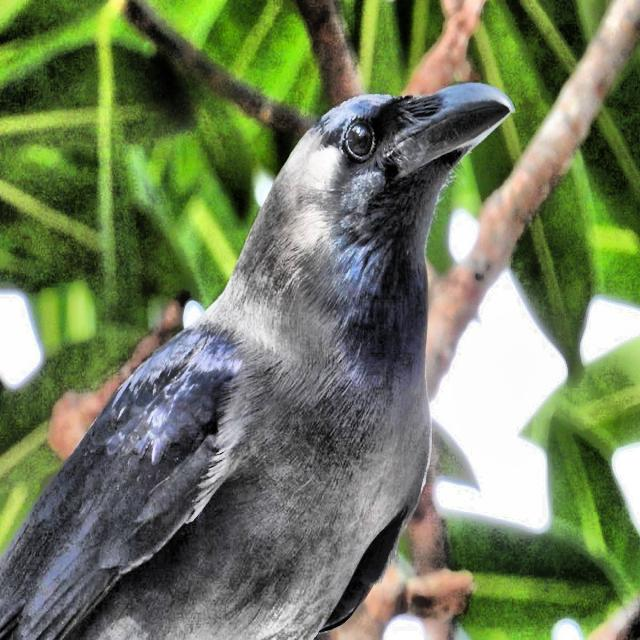crow: (0, 74, 521, 640)
